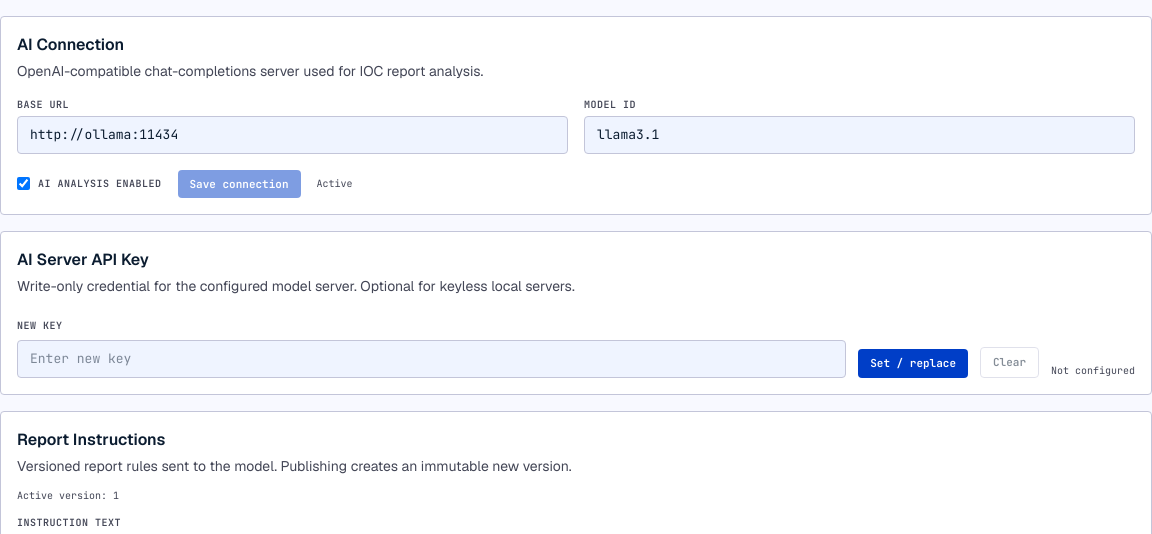
Admin AI settings section › saves the connection through the dedicated endpoint and keeps the key out of it
The width and height of the screenshot is (1152, 534).
Step 1. Type "qwen2.5" into the field showing "llama3.1" → (860, 135), box [584,116,1135,154]
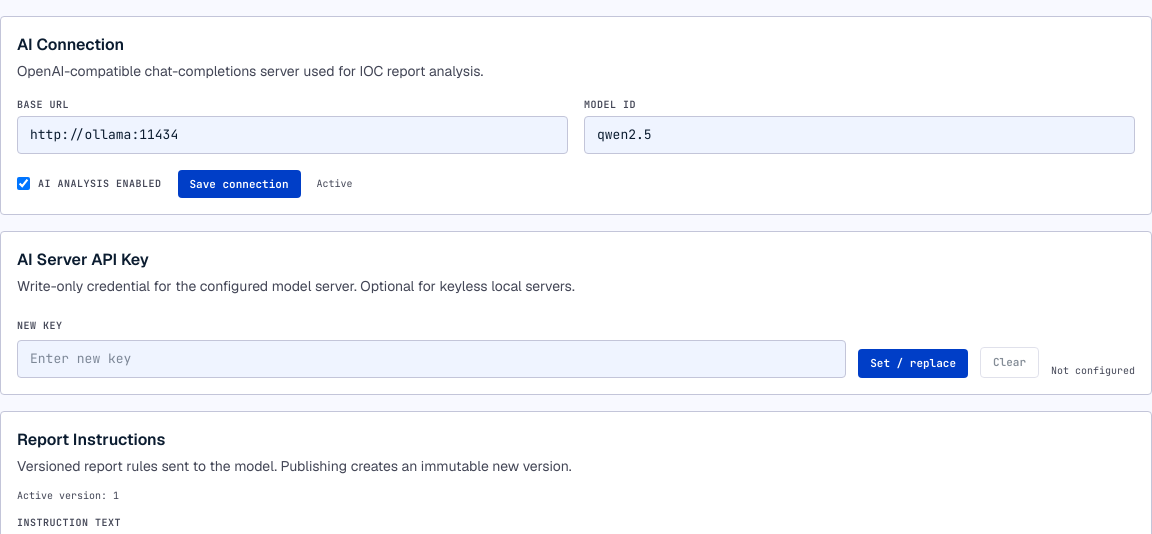
Step 2. Click the button "Save connection" → (239, 184), box [178,170,300,198]
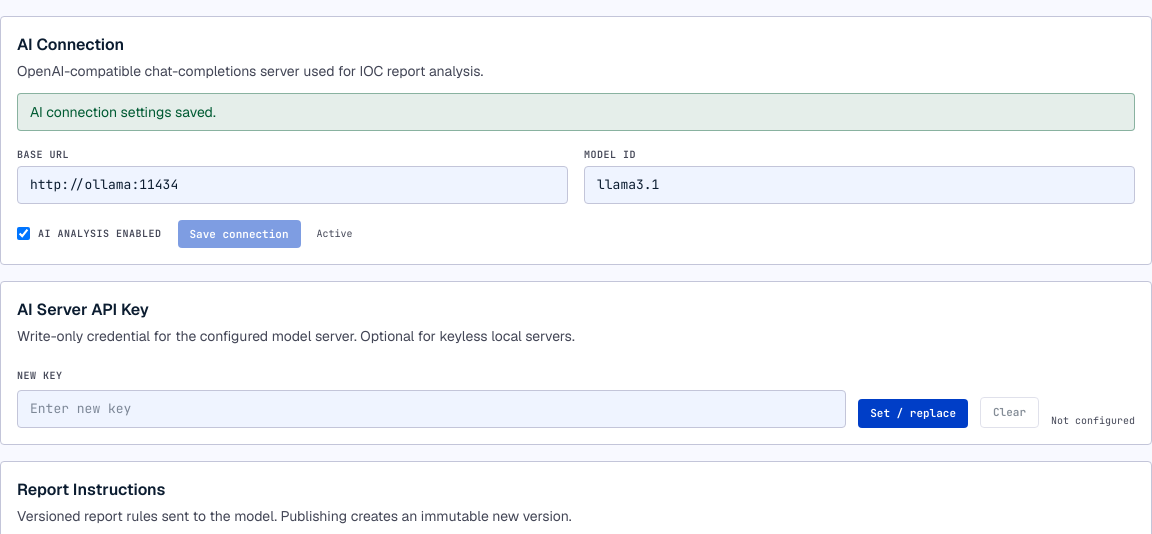
Now the text "AI connection settings saved." is shown, box [17,93,1135,131]
